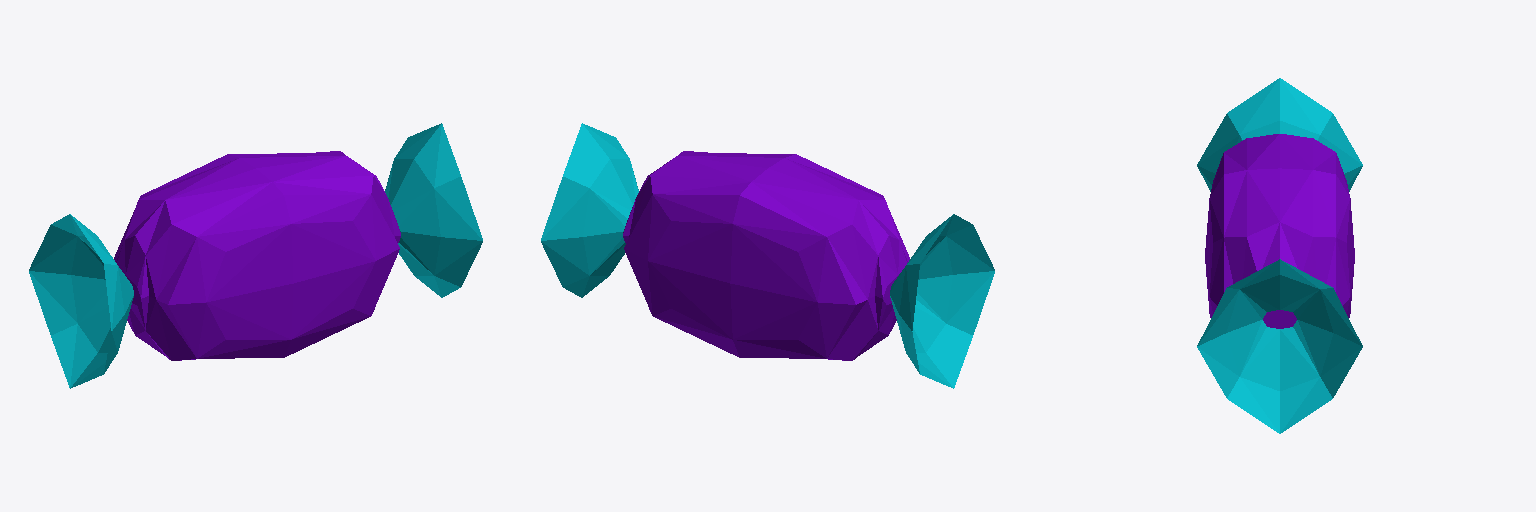
3 renders of one model, left to right at view 1: azimuth 30°, elevation 25°; view 2: azimuth 150°, elevation 25°; view 3: azimuth 270°, elevation 25°, orthographic.
Parts seen in each view (by area): view 1: mid, left, right; view 2: mid, left, right; view 3: mid, right, left.
Boxes of the visible parts, x1=… form: mid: x1=114, y1=151, x2=400, y2=360; left: x1=29, y1=214, x2=133, y2=388; right: x1=385, y1=123, x2=482, y2=297; mid: x1=623, y1=151, x2=909, y2=360; left: x1=890, y1=214, x2=994, y2=388; right: x1=541, y1=123, x2=638, y2=297; mid: x1=1205, y1=134, x2=1354, y2=328; right: x1=1197, y1=259, x2=1362, y2=433; left: x1=1197, y1=78, x2=1362, y2=191.
Bounding box in the file's own units: 0.3125 × 0.1406 × 0.1211.
1 materials, 1 textured.